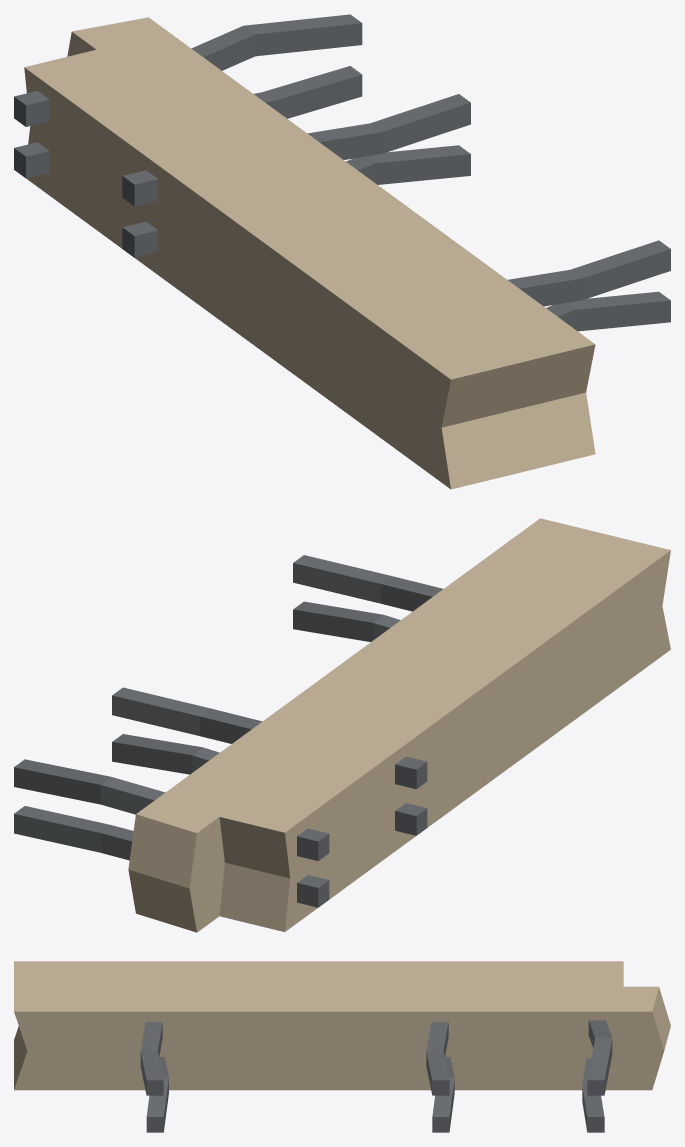
The model's file is LightStoneDecorationMediumSupport1.fbx.
The picture shows the model from 3 angles, top to bottom: view 1: azimuth 30°, elevation 25°; view 2: azimuth 150°, elevation 25°; view 3: azimuth 270°, elevation 25°; orthographic projection. The views are drawn at different scales.
Parts seen in each view (by area): view 1: ConcreteBlock, SupportRods; view 2: ConcreteBlock, SupportRods; view 3: ConcreteBlock, SupportRods.
Part boxes in pixels (bbox=[...]): ConcreteBlock: bbox=[24, 17, 595, 489]; SupportRods: bbox=[14, 14, 670, 331]; ConcreteBlock: bbox=[128, 518, 670, 932]; SupportRods: bbox=[14, 555, 442, 907]; ConcreteBlock: bbox=[14, 961, 670, 1090]; SupportRods: bbox=[140, 1020, 612, 1132].
Bounding box in the file's own units: 413 × 129 × 978.
